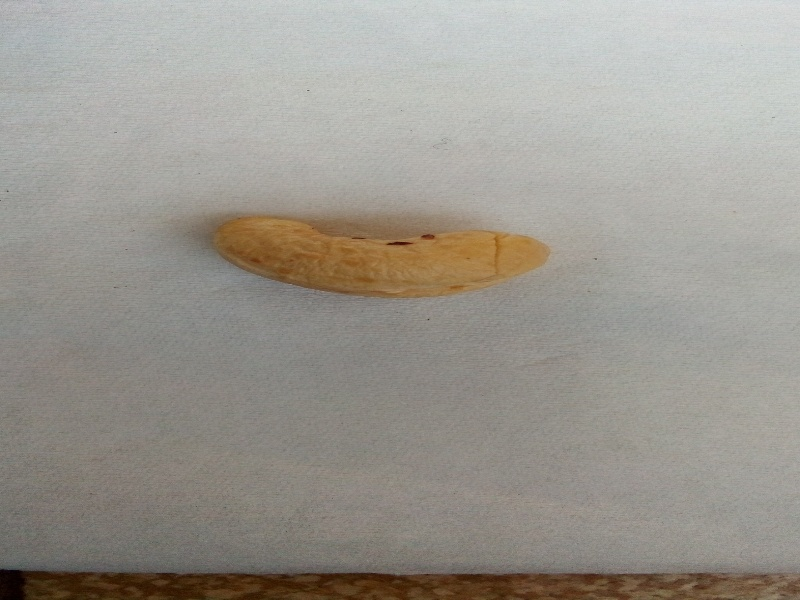cashew: (175, 180, 583, 335)
